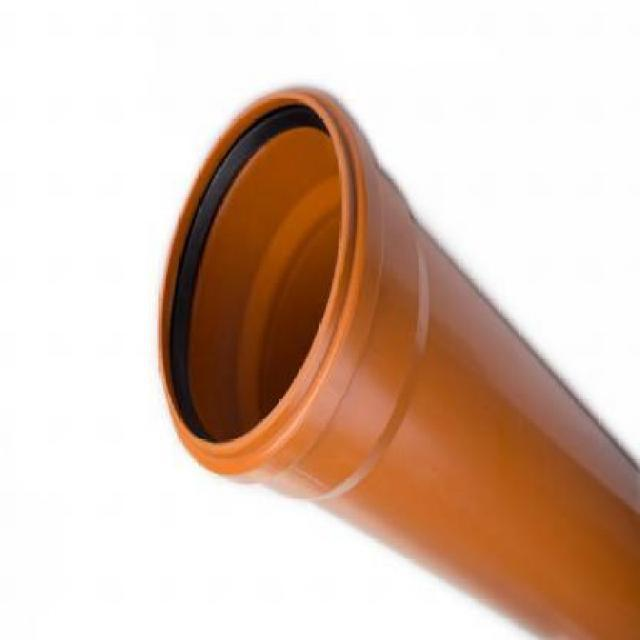pipe: (157, 89, 362, 474)
